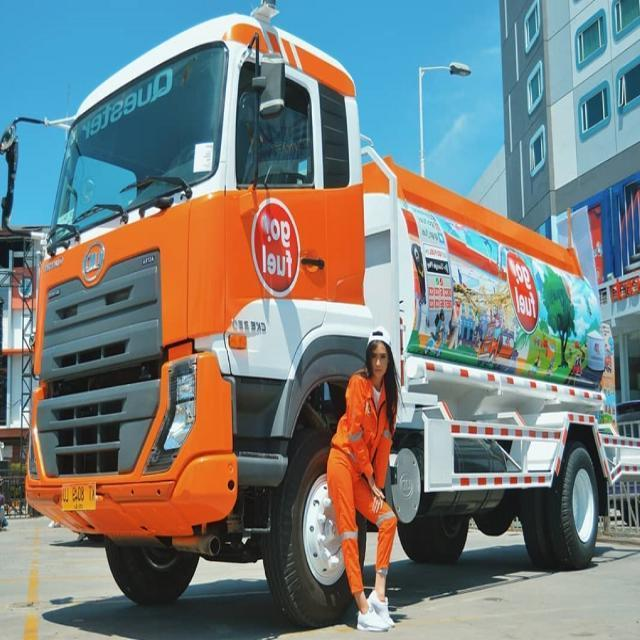truck: (7, 12, 624, 605)
